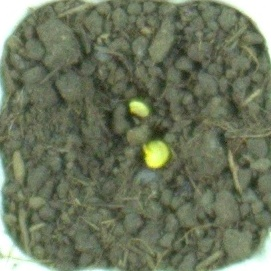pepper seed: (56, 53, 228, 223), (51, 39, 203, 157)
